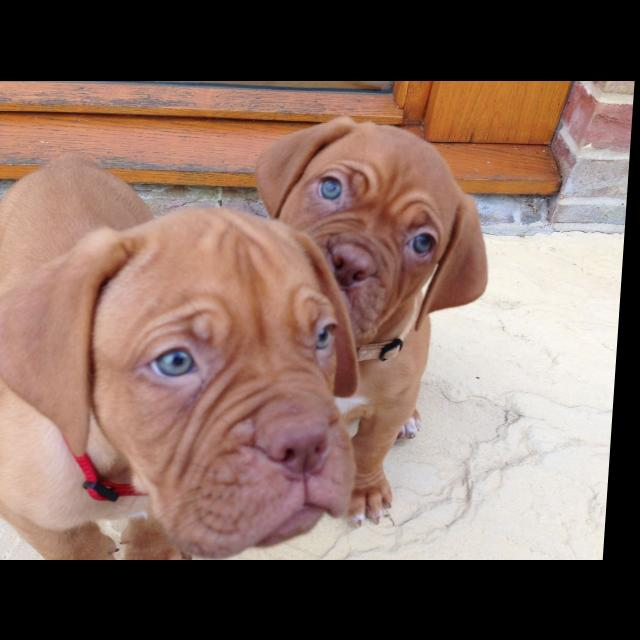dogue_de_bordeaux: (1, 150, 383, 560), (238, 115, 502, 528)
